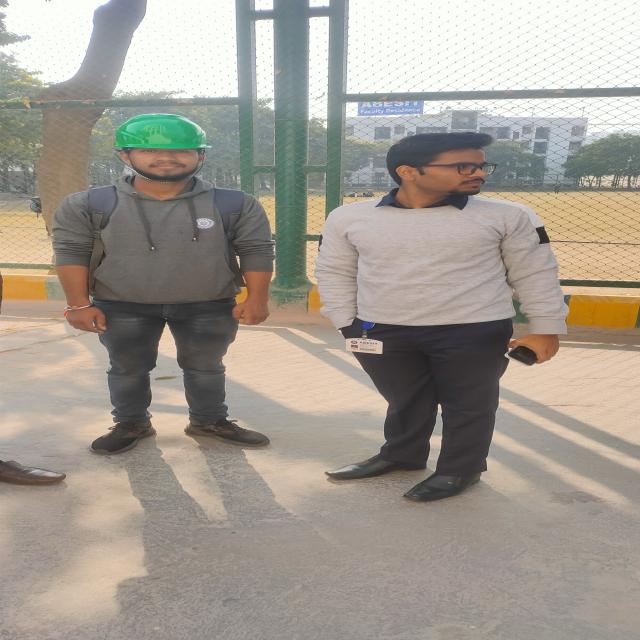no jacket: (54, 114, 274, 451)
unsafe: (315, 133, 560, 500)
